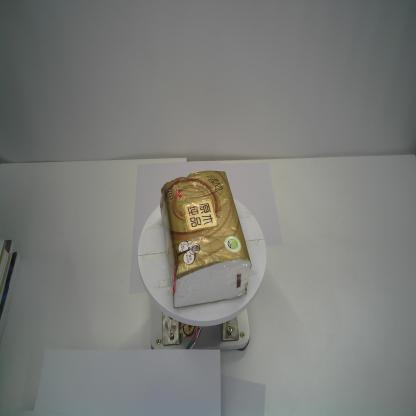Tissue: (160, 169, 252, 310)
